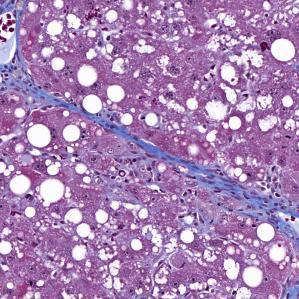fibrosis: (190, 172, 295, 221), (0, 4, 25, 103), (77, 110, 136, 137)
